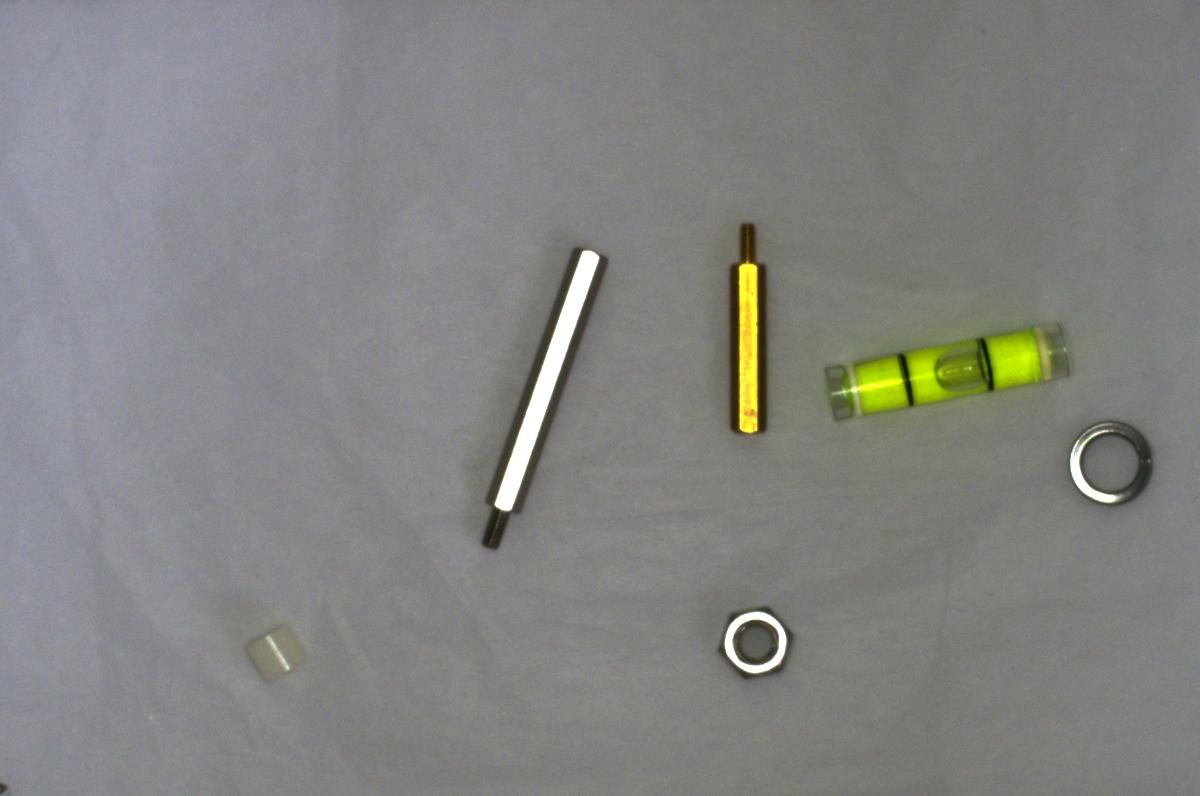Hexagon nut: (707, 596, 793, 682)
Hexagon pillar: (719, 215, 775, 448)
Hexagonal steel column: (466, 238, 606, 555)
Horizontal bubble: (811, 312, 1079, 426)
Plastic cushion pillar: (241, 613, 321, 689)
Spring washer: (1062, 414, 1161, 513)
